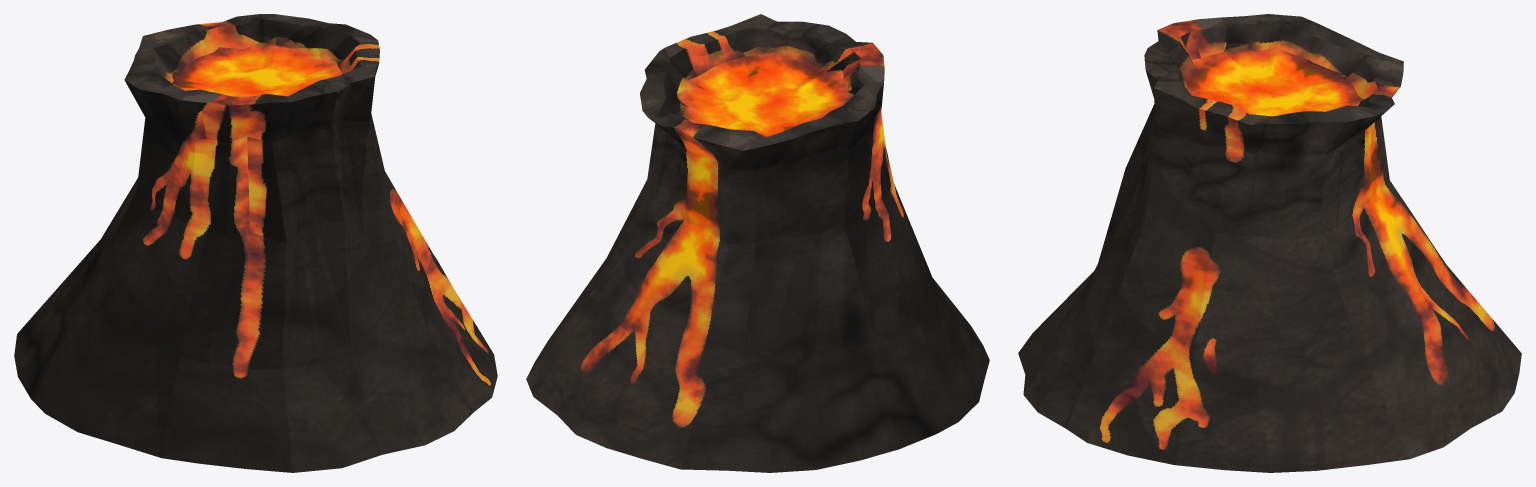
The model's file is volcano.glb.
The picture shows the model from 3 angles, left to right: view 1: azimuth 30°, elevation 25°; view 2: azimuth 150°, elevation 25°; view 3: azimuth 270°, elevation 25°; orthographic projection. The views are drawn at different scales.
Visible parts, largest first — view 1: Cylinder; view 2: Cylinder; view 3: Cylinder.
Boxes of the visible parts, x1,y1,x2,y2 form: Cylinder: [14, 14, 497, 472]; Cylinder: [526, 14, 989, 472]; Cylinder: [1018, 14, 1521, 472].
Bounding box in the file's own units: 1.58 × 1.16 × 1.68.
1 material, 1 textured.
